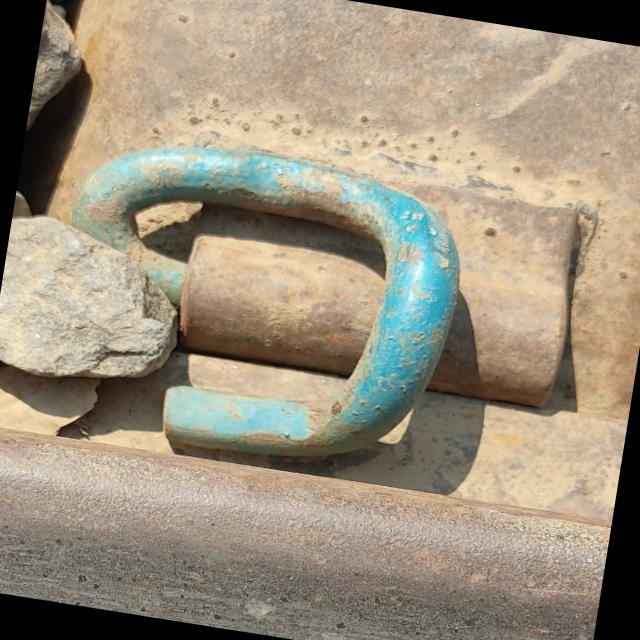track_bolt: (31, 114, 485, 492)
